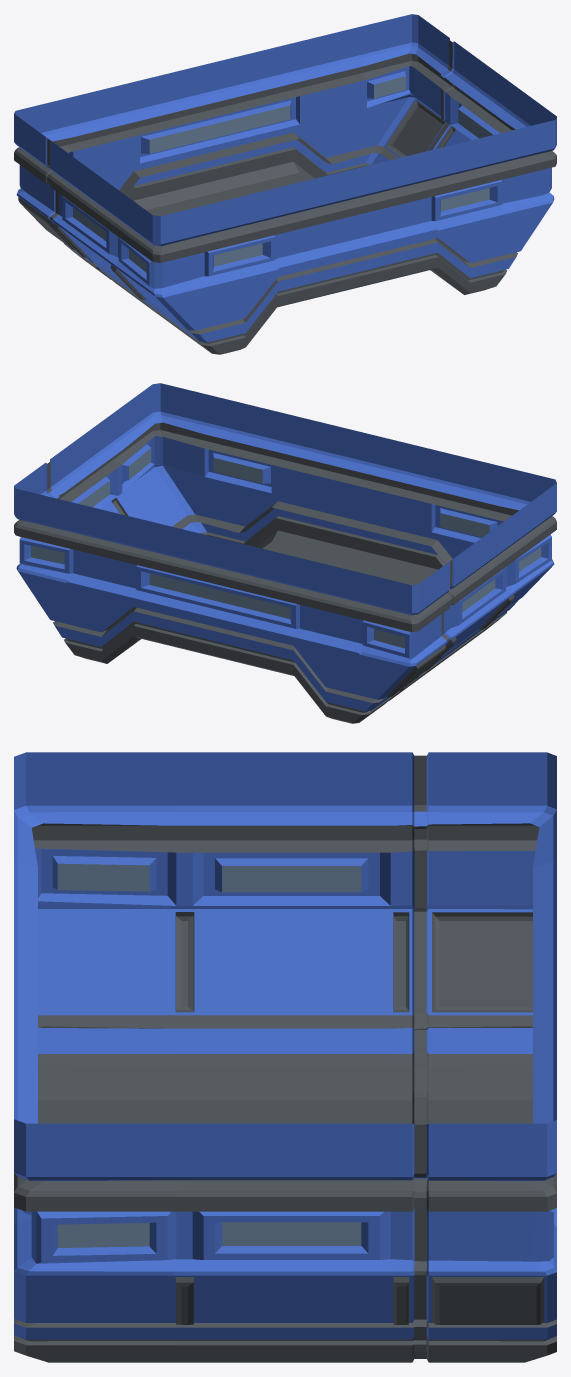
The model's file is Dropship_05_Storage_Compartment_Blue.fbx.
3 views of the same model, one above another, from view 1: azimuth 30°, elevation 25°; view 2: azimuth 150°, elevation 25°; view 3: azimuth 270°, elevation 25° (orthographic). The views are drawn at different scales.
Visible parts, largest first — view 1: Dropship_05_Storage_Compartment_Blue; view 2: Dropship_05_Storage_Compartment_Blue; view 3: Dropship_05_Storage_Compartment_Blue.
Boxes of the visible parts, left/top/right/bottom form: Dropship_05_Storage_Compartment_Blue: left=14, top=14, right=556, bottom=354; Dropship_05_Storage_Compartment_Blue: left=14, top=383, right=556, bottom=723; Dropship_05_Storage_Compartment_Blue: left=14, top=752, right=556, bottom=1362.
Size of the model in its own units: 347 by 130 by 215.
2 materials, 2 textured.
